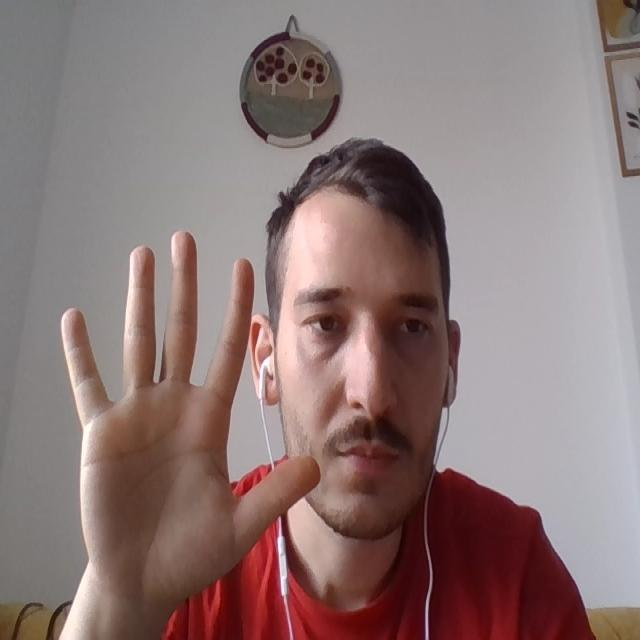hello: (69, 225, 301, 600)
